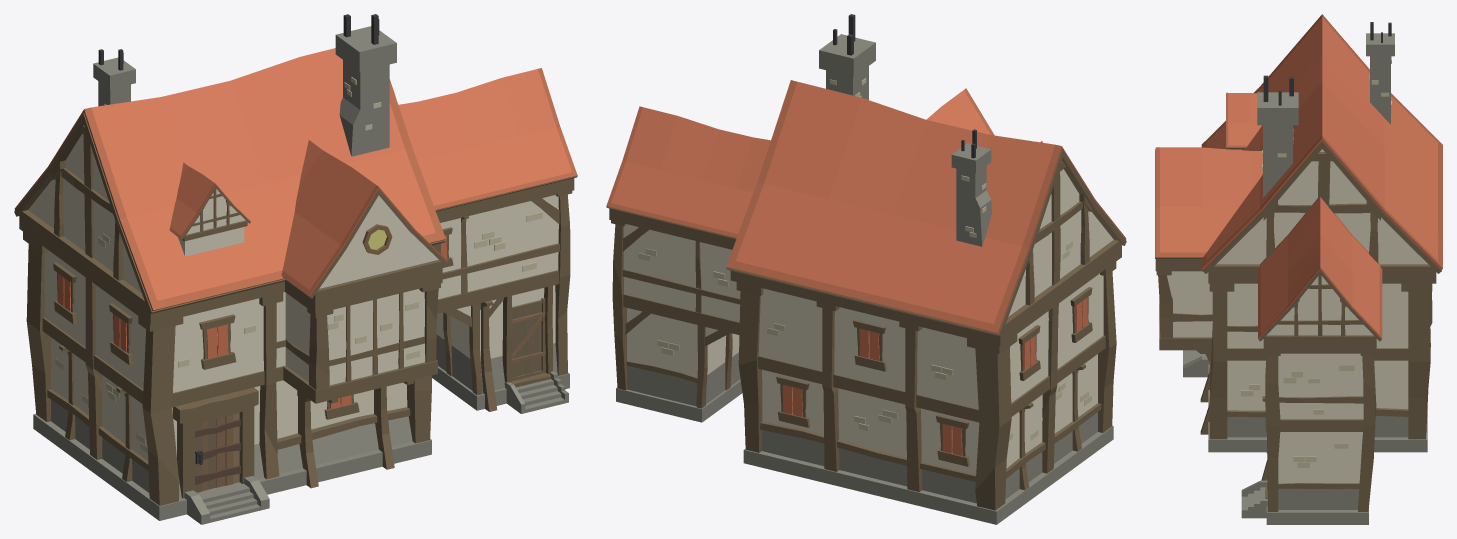
The model's file is House_13.fbx.
The picture shows the model from 3 angles, left to right: view 1: azimuth 30°, elevation 25°; view 2: azimuth 150°, elevation 25°; view 3: azimuth 270°, elevation 25°; orthographic projection. The views are drawn at different scales.
Parts seen in each view (by area): view 1: House_13; view 2: House_13; view 3: House_13.
Part boxes in pixels (x1,y1,x2,y2): House_13: (14, 14, 577, 524); House_13: (606, 14, 1126, 524); House_13: (1155, 14, 1442, 524).
Size of the model in its own units: 223 by 196 by 140.
Materials: 1 (1 with a texture image).
